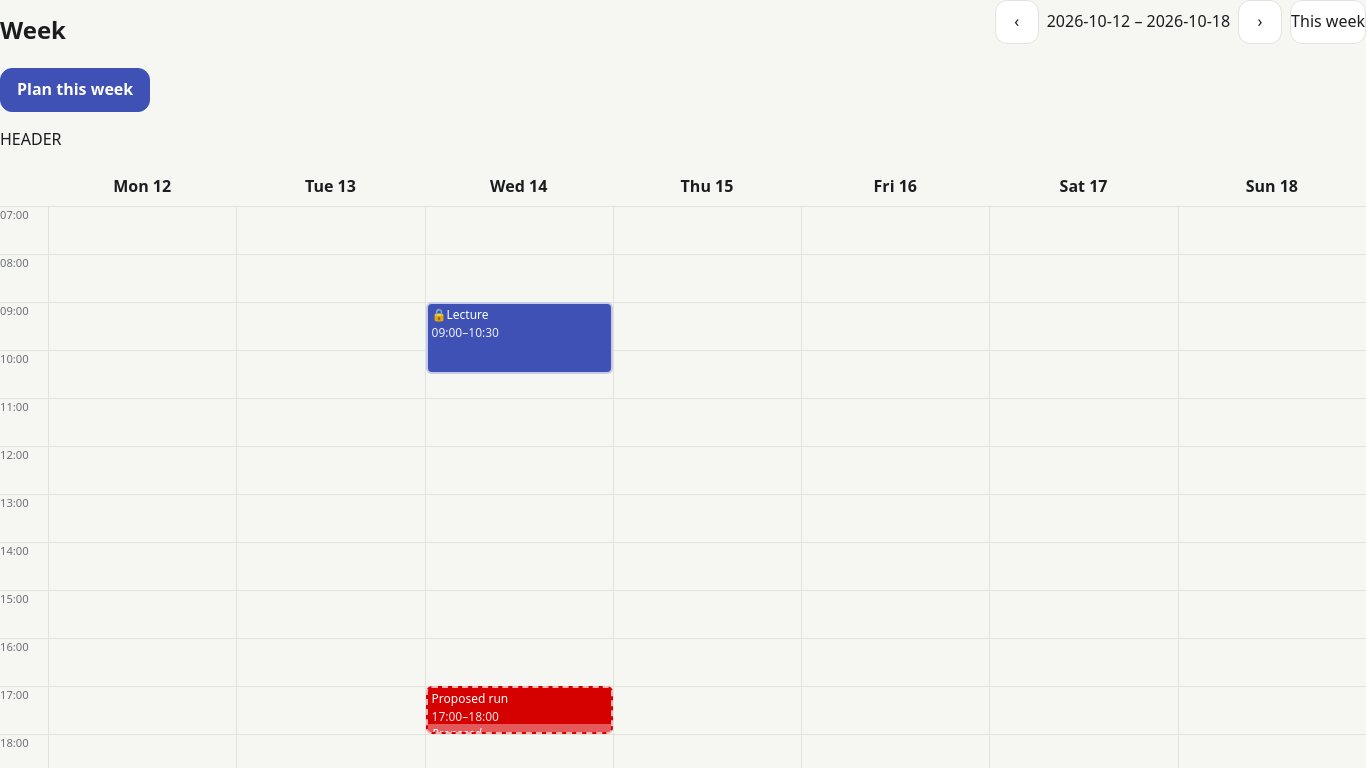
WeekPage › non-fixed block can be edited; slots render
Check: the text "HEADER" is shown, box [0,128,62,150]
Step 1. Click the text "Proposed run" → (470, 699), box [432,690,508,708]
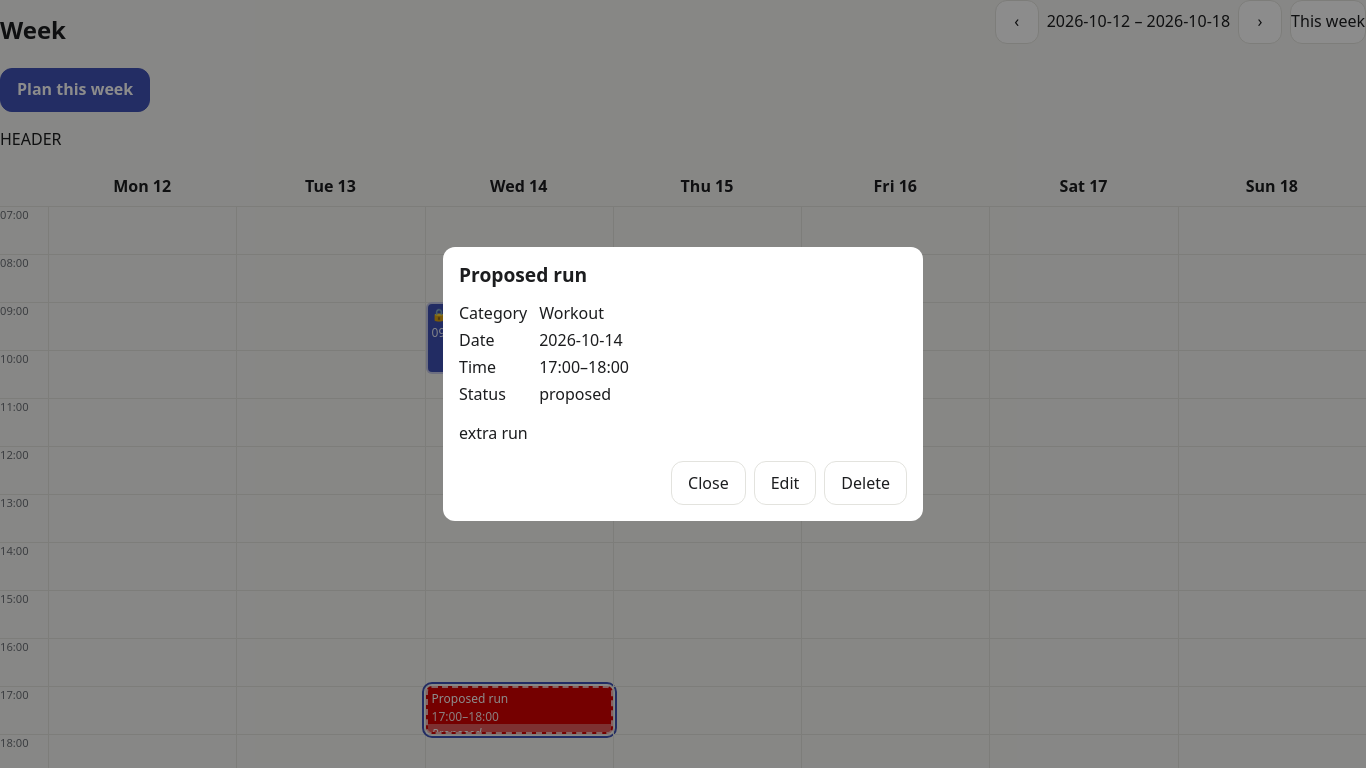
Check: the text "extra run" is shown, box [459,422,528,444]
Step 2. Click the button "Edit" → (785, 484), box [754,462,816,506]
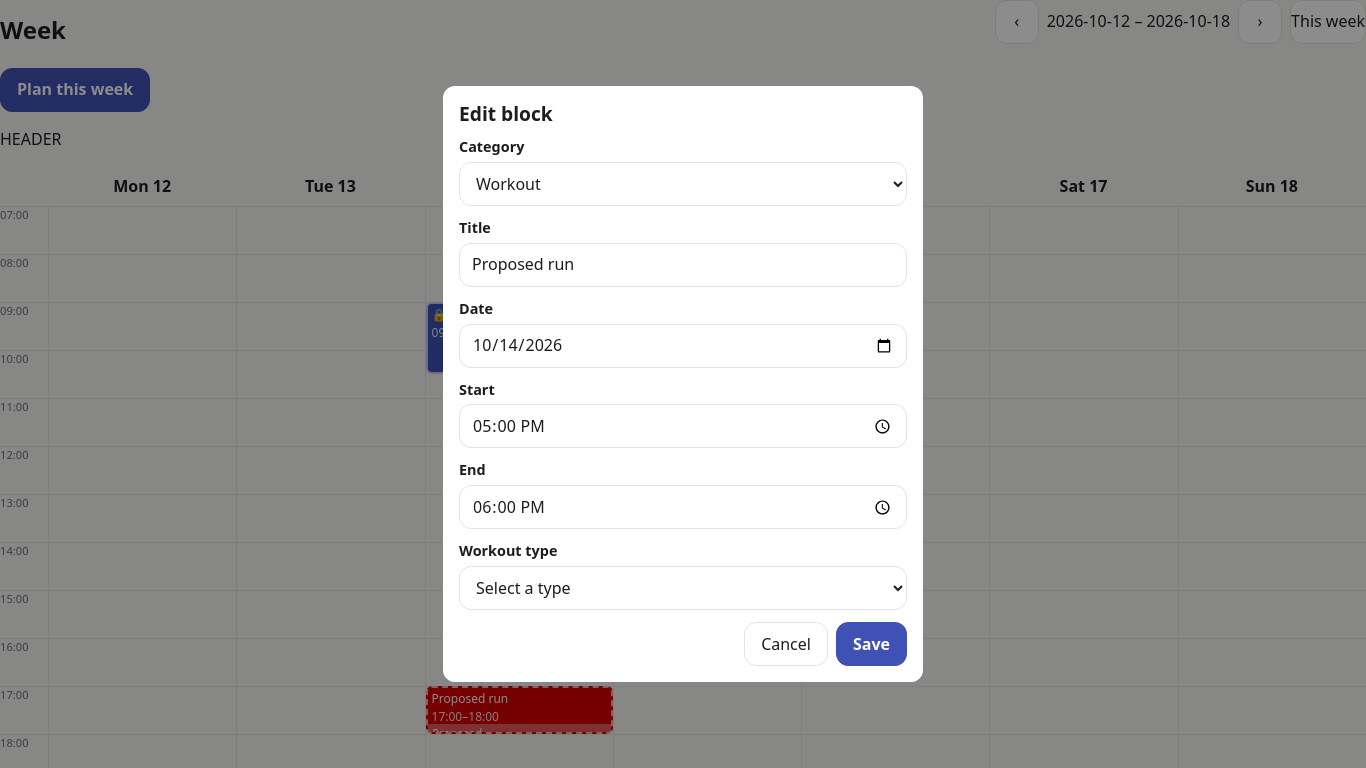
Check: the dialog "Edit block" is shown, box [443,86,923,682]
